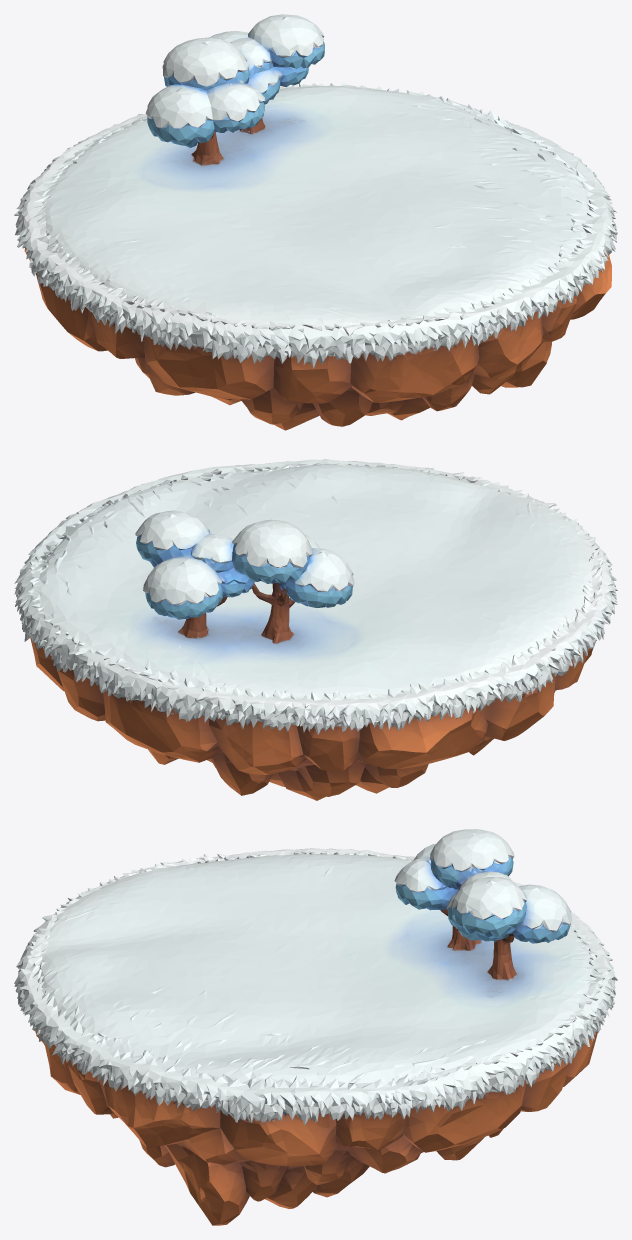
Rendered from TERRAIN_1_winter.glb.
3 renders of one model, top to bottom at view 1: azimuth 30°, elevation 25°; view 2: azimuth 150°, elevation 25°; view 3: azimuth 270°, elevation 25°, orthographic.
Parts seen in each view (by area): view 1: tripo_node_e11a25dc-3fc3-4e14-a3bc-0f24740098f9; view 2: tripo_node_e11a25dc-3fc3-4e14-a3bc-0f24740098f9; view 3: tripo_node_e11a25dc-3fc3-4e14-a3bc-0f24740098f9.
Part boxes in pixels (x1=…): tripo_node_e11a25dc-3fc3-4e14-a3bc-0f24740098f9: x1=14, y1=14, x2=617, y2=430; tripo_node_e11a25dc-3fc3-4e14-a3bc-0f24740098f9: x1=14, y1=459, x2=617, y2=800; tripo_node_e11a25dc-3fc3-4e14-a3bc-0f24740098f9: x1=14, y1=829, x2=617, y2=1225.
Bounding box in the file's own units: 1 × 0.5679 × 0.9973.
1 material, 1 textured.
